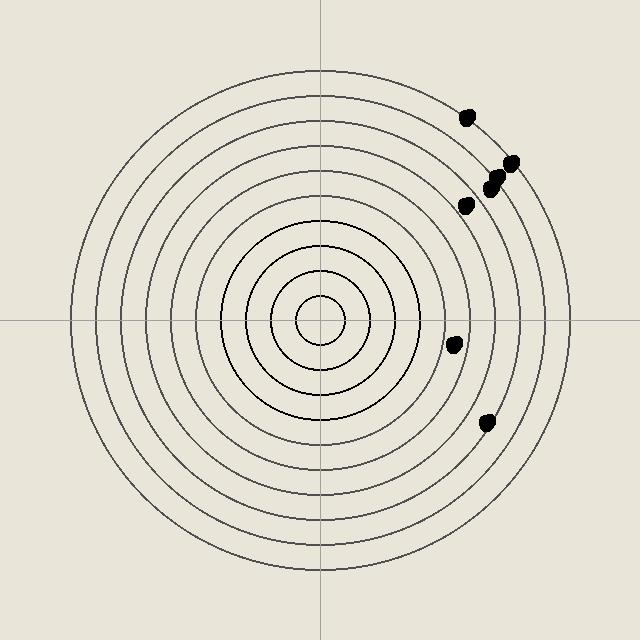vertical_scatter: (443, 334, 463, 354), (480, 178, 500, 198), (456, 107, 476, 127), (486, 167, 506, 187), (455, 195, 475, 215), (476, 412, 496, 432), (500, 153, 520, 173)
